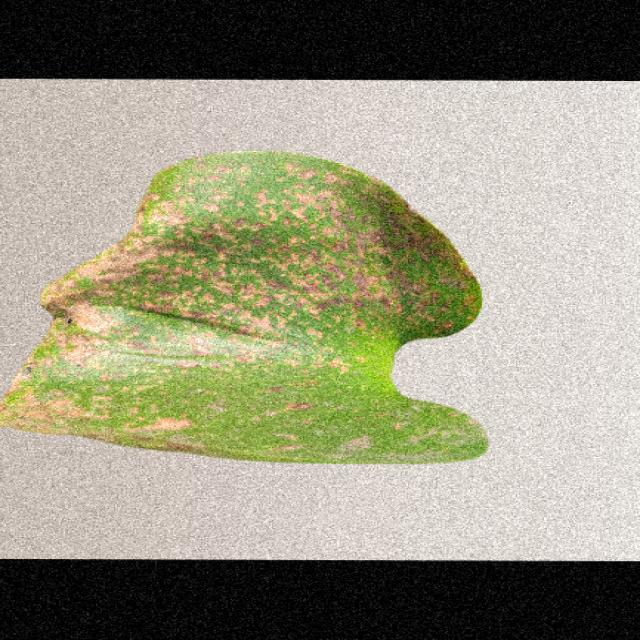daun berpenyakit bercak: (2, 151, 487, 463)
